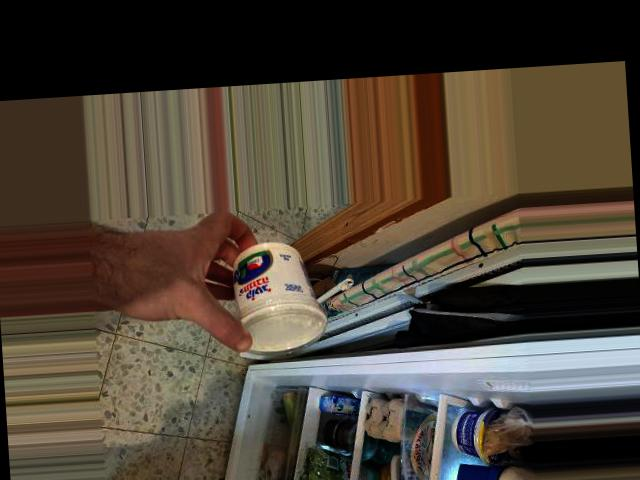cotage: (213, 235, 331, 359)
